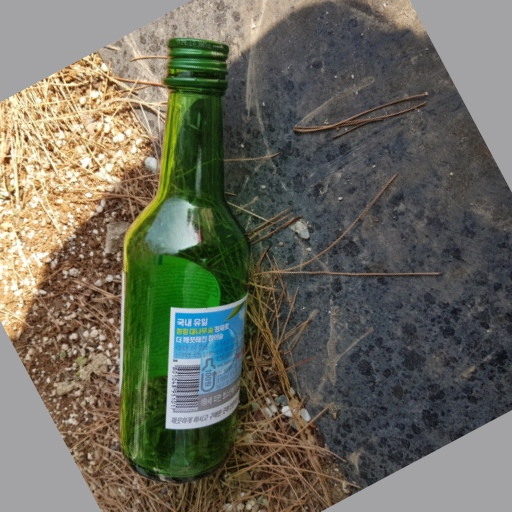Glass_0: (117, 38, 251, 486)
